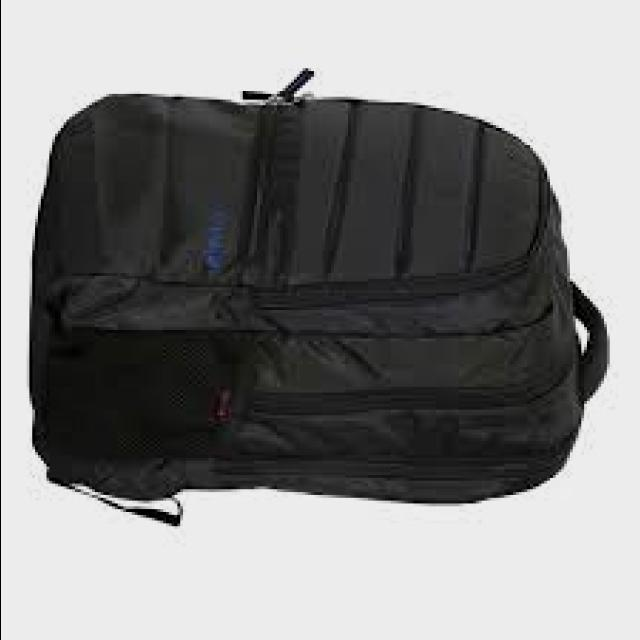backpack: (30, 67, 613, 528)
